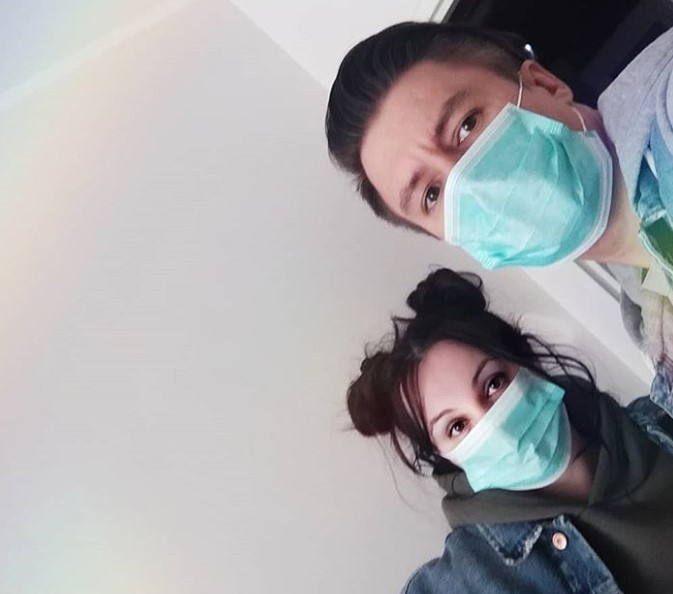face_with_mask: (353, 31, 617, 271), (392, 312, 577, 494)
